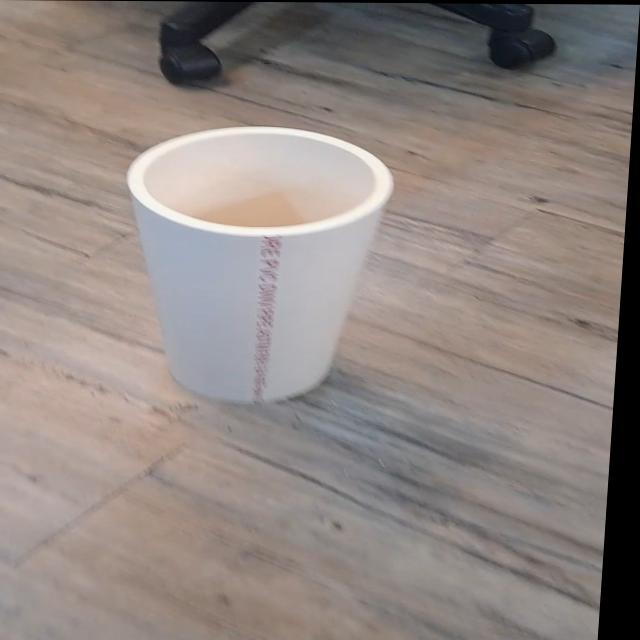CORAL: (103, 119, 409, 410)
